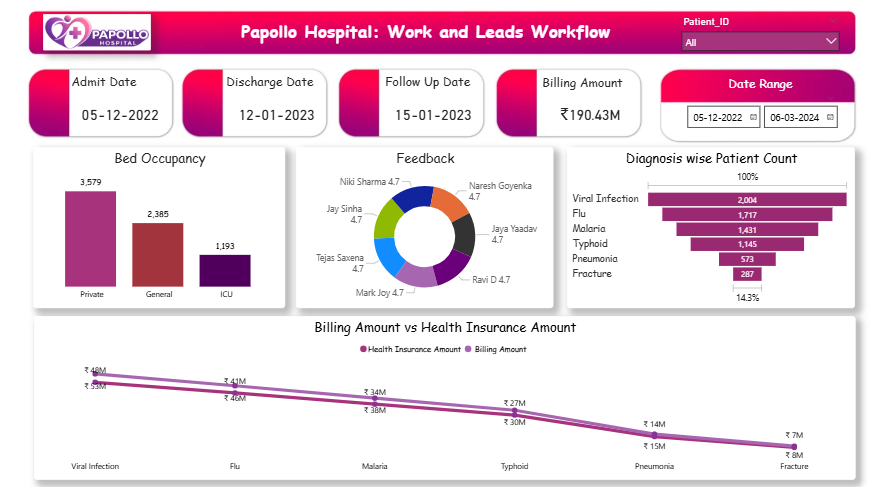

The dashboard page shown, as its layout file describes it:
{"tool":"powerbi","page":{"name":"Page 1","canvas":[1360,750],"ordinal":0},"visuals":[{"type":"image","box":[65.5,21.8,166.4,55.9],"z":0},{"type":"textbox","box":[366.2,24.6,627.5,56.5],"z":1000},{"type":"slicer","fields":{"Values":["Sheet1.Patient_ID"]},"box":[1037.7,17.7,263.2,64.1],"z":2000},{"type":"card","fields":{"Values":["Min(Sheet1.Admit_Date)"]},"box":[114.5,151.4,141.8,50.5],"z":3000},{"type":"textbox","box":[105,106.4,151.4,45],"z":4000},{"type":"textbox","box":[343.6,106.4,152.7,36.8],"z":5000},{"type":"card","fields":{"Values":["Min(Sheet1.Discharge_Date)"]},"box":[353.2,151.4,143.2,50.5],"z":6000},{"type":"textbox","box":[587.7,106.4,158.2,36.8],"z":7000},{"type":"card","fields":{"Values":["Min(Sheet1.Followup Date)"]},"box":[595.9,151.4,141.8,50.5],"z":8000},{"type":"textbox","box":[829.1,107.7,158.2,36.8],"z":9000},{"type":"card","fields":{"Values":["Sum(Sheet1.Billing Amount)"]},"box":[837.3,151.4,141.8,50.5],"z":10000},{"type":"slicer","title":"Date Range","fields":{"Values":["Sheet1.Admit_Date"]},"box":[1044.5,113.2,250.9,99.5],"z":11000},{"type":"columnChart","title":" Bed Occupancy","fields":{"Category":["Sheet1.Bed_Occupancy"],"Y":["CountNonNull(Sheet1.Bed_Occupancy)"]},"box":[50.7,226.1,388.4,247.8],"z":12000},{"type":"donutChart","title":"Feedback ","fields":{"Category":["Sheet1.Doctor"],"Y":["Avg(Sheet1.Feedback)"]},"box":[455.1,226.1,395.7,247.8],"z":13000},{"type":"funnel","title":"Diagnosis wise Patient Count","fields":{"Category":["Sheet1.Diagnosis"],"Y":["CountNonNull(Sheet1.Diagnosis)"]},"box":[872.7,226.4,443.2,248.2],"z":14000},{"type":"lineChart","title":"Billing Amount vs Health Insurance Amount","fields":{"Y":["Sum(Sheet1.Health Insurance Amount)","Sum(Sheet1.Billing Amount)"],"Category":["Sheet1.Diagnosis"]},"box":[51.7,486.2,1263.8,251.7],"z":15000}]}

Visuals, with their boxes in screenshot pixels (x1, y1, x2, y2), scaled from the page's 1360x750 canvas onto the 880x487 screenshot:
image: BBox(42, 14, 150, 50)
textbox: BBox(237, 16, 643, 53)
slicer - Sheet1.Patient_ID: BBox(671, 11, 842, 53)
card - Min(Sheet1.Admit_Date): BBox(74, 98, 166, 131)
textbox: BBox(68, 69, 166, 98)
textbox: BBox(222, 69, 321, 93)
card - Min(Sheet1.Discharge_Date): BBox(229, 98, 321, 131)
textbox: BBox(380, 69, 483, 93)
card - Min(Sheet1.Followup Date): BBox(386, 98, 477, 131)
textbox: BBox(536, 70, 639, 94)
card - Sum(Sheet1.Billing Amount): BBox(542, 98, 634, 131)
"Date Range" slicer: BBox(676, 74, 838, 138)
" Bed Occupancy" columnChart: BBox(33, 147, 284, 308)
"Feedback " donutChart: BBox(294, 147, 551, 308)
"Diagnosis wise Patient Count" funnel: BBox(565, 147, 851, 308)
"Billing Amount vs Health Insurance Amount" lineChart: BBox(33, 316, 851, 479)
